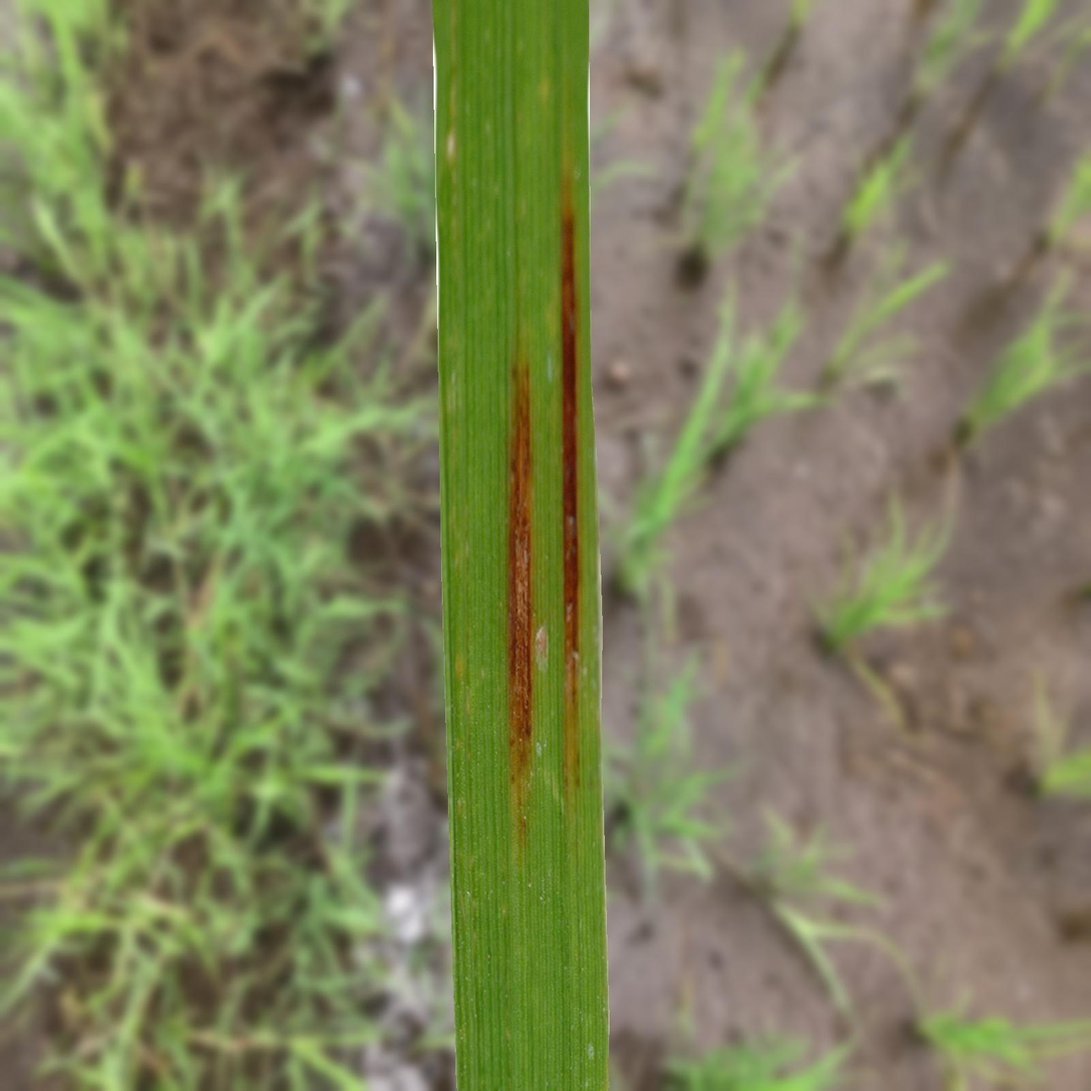LEAF: (432, 0, 610, 1090)
NBS: (503, 309, 534, 859), (560, 91, 582, 832)
